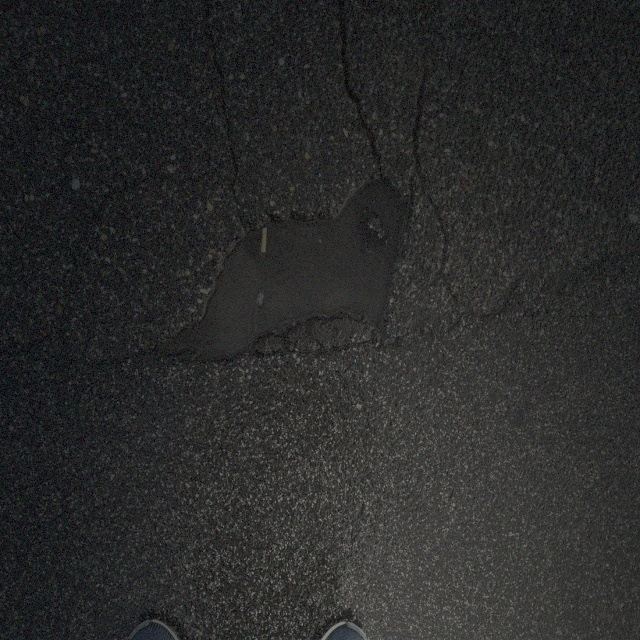pothole: (153, 168, 410, 387)
